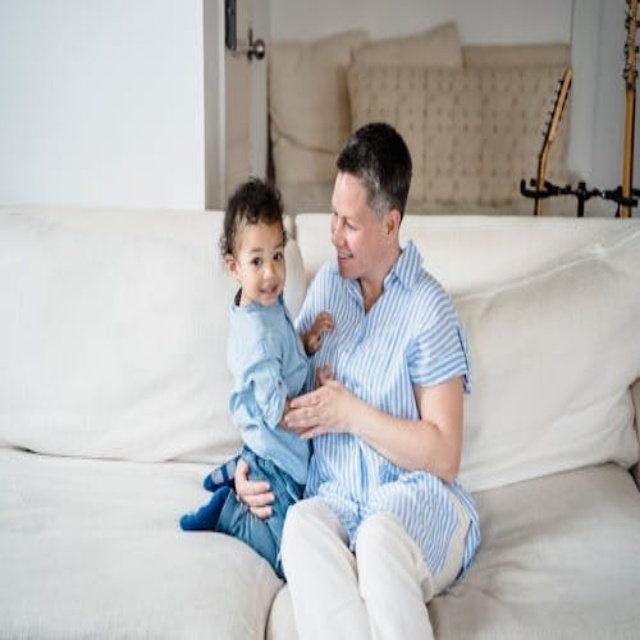Sin_gafas: (329, 194, 372, 240), (241, 234, 287, 275)
Sin_guantes: (280, 374, 343, 438), (233, 455, 276, 519)
Sin_mascara: (250, 279, 280, 306), (334, 246, 360, 277)
